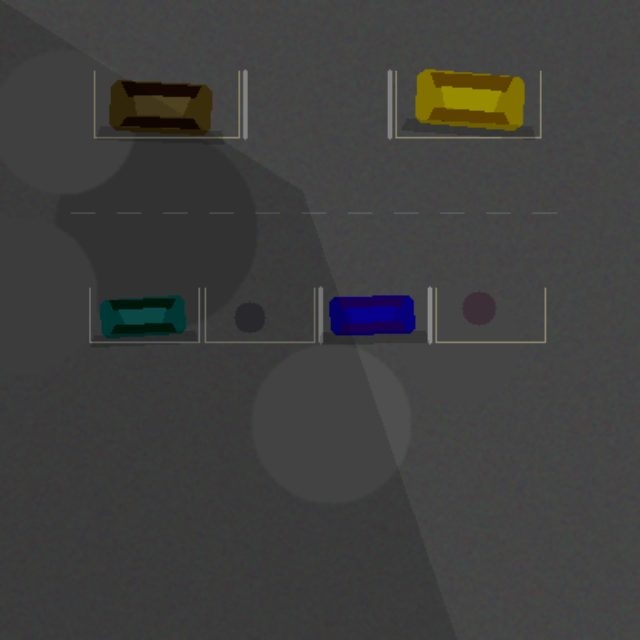space-empty: (245, 71, 389, 137), (435, 288, 545, 342), (205, 288, 314, 342)
space-occupied: (395, 71, 540, 137), (94, 71, 238, 137), (89, 288, 198, 342), (320, 288, 429, 342)
